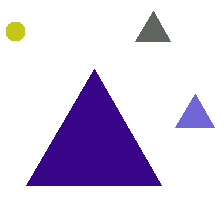circle: (6, 22, 24, 40)
triangle: (26, 69, 161, 185), (175, 94, 214, 127), (135, 11, 170, 41)
